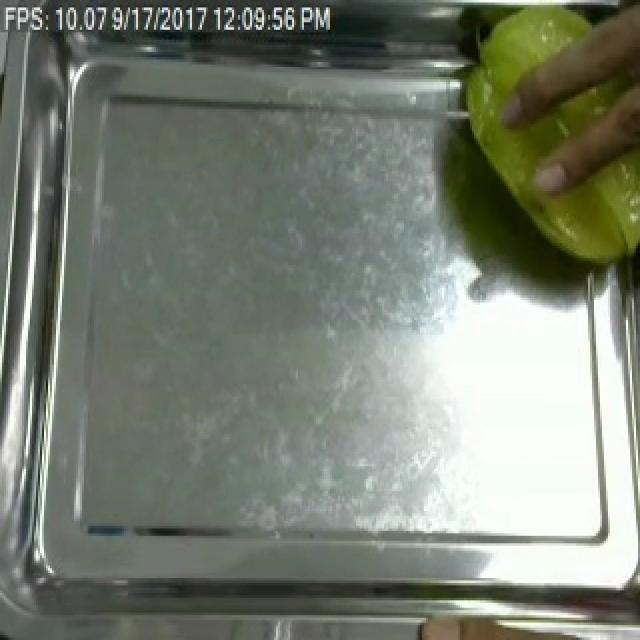fruit: (456, 0, 640, 280)
